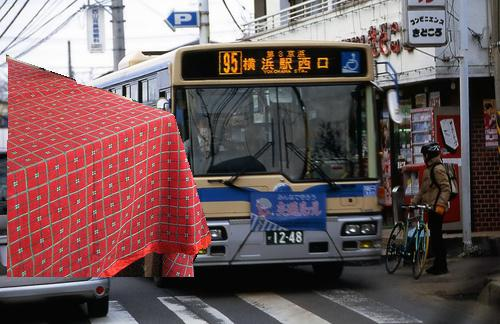tampered: (7, 55, 211, 277)
